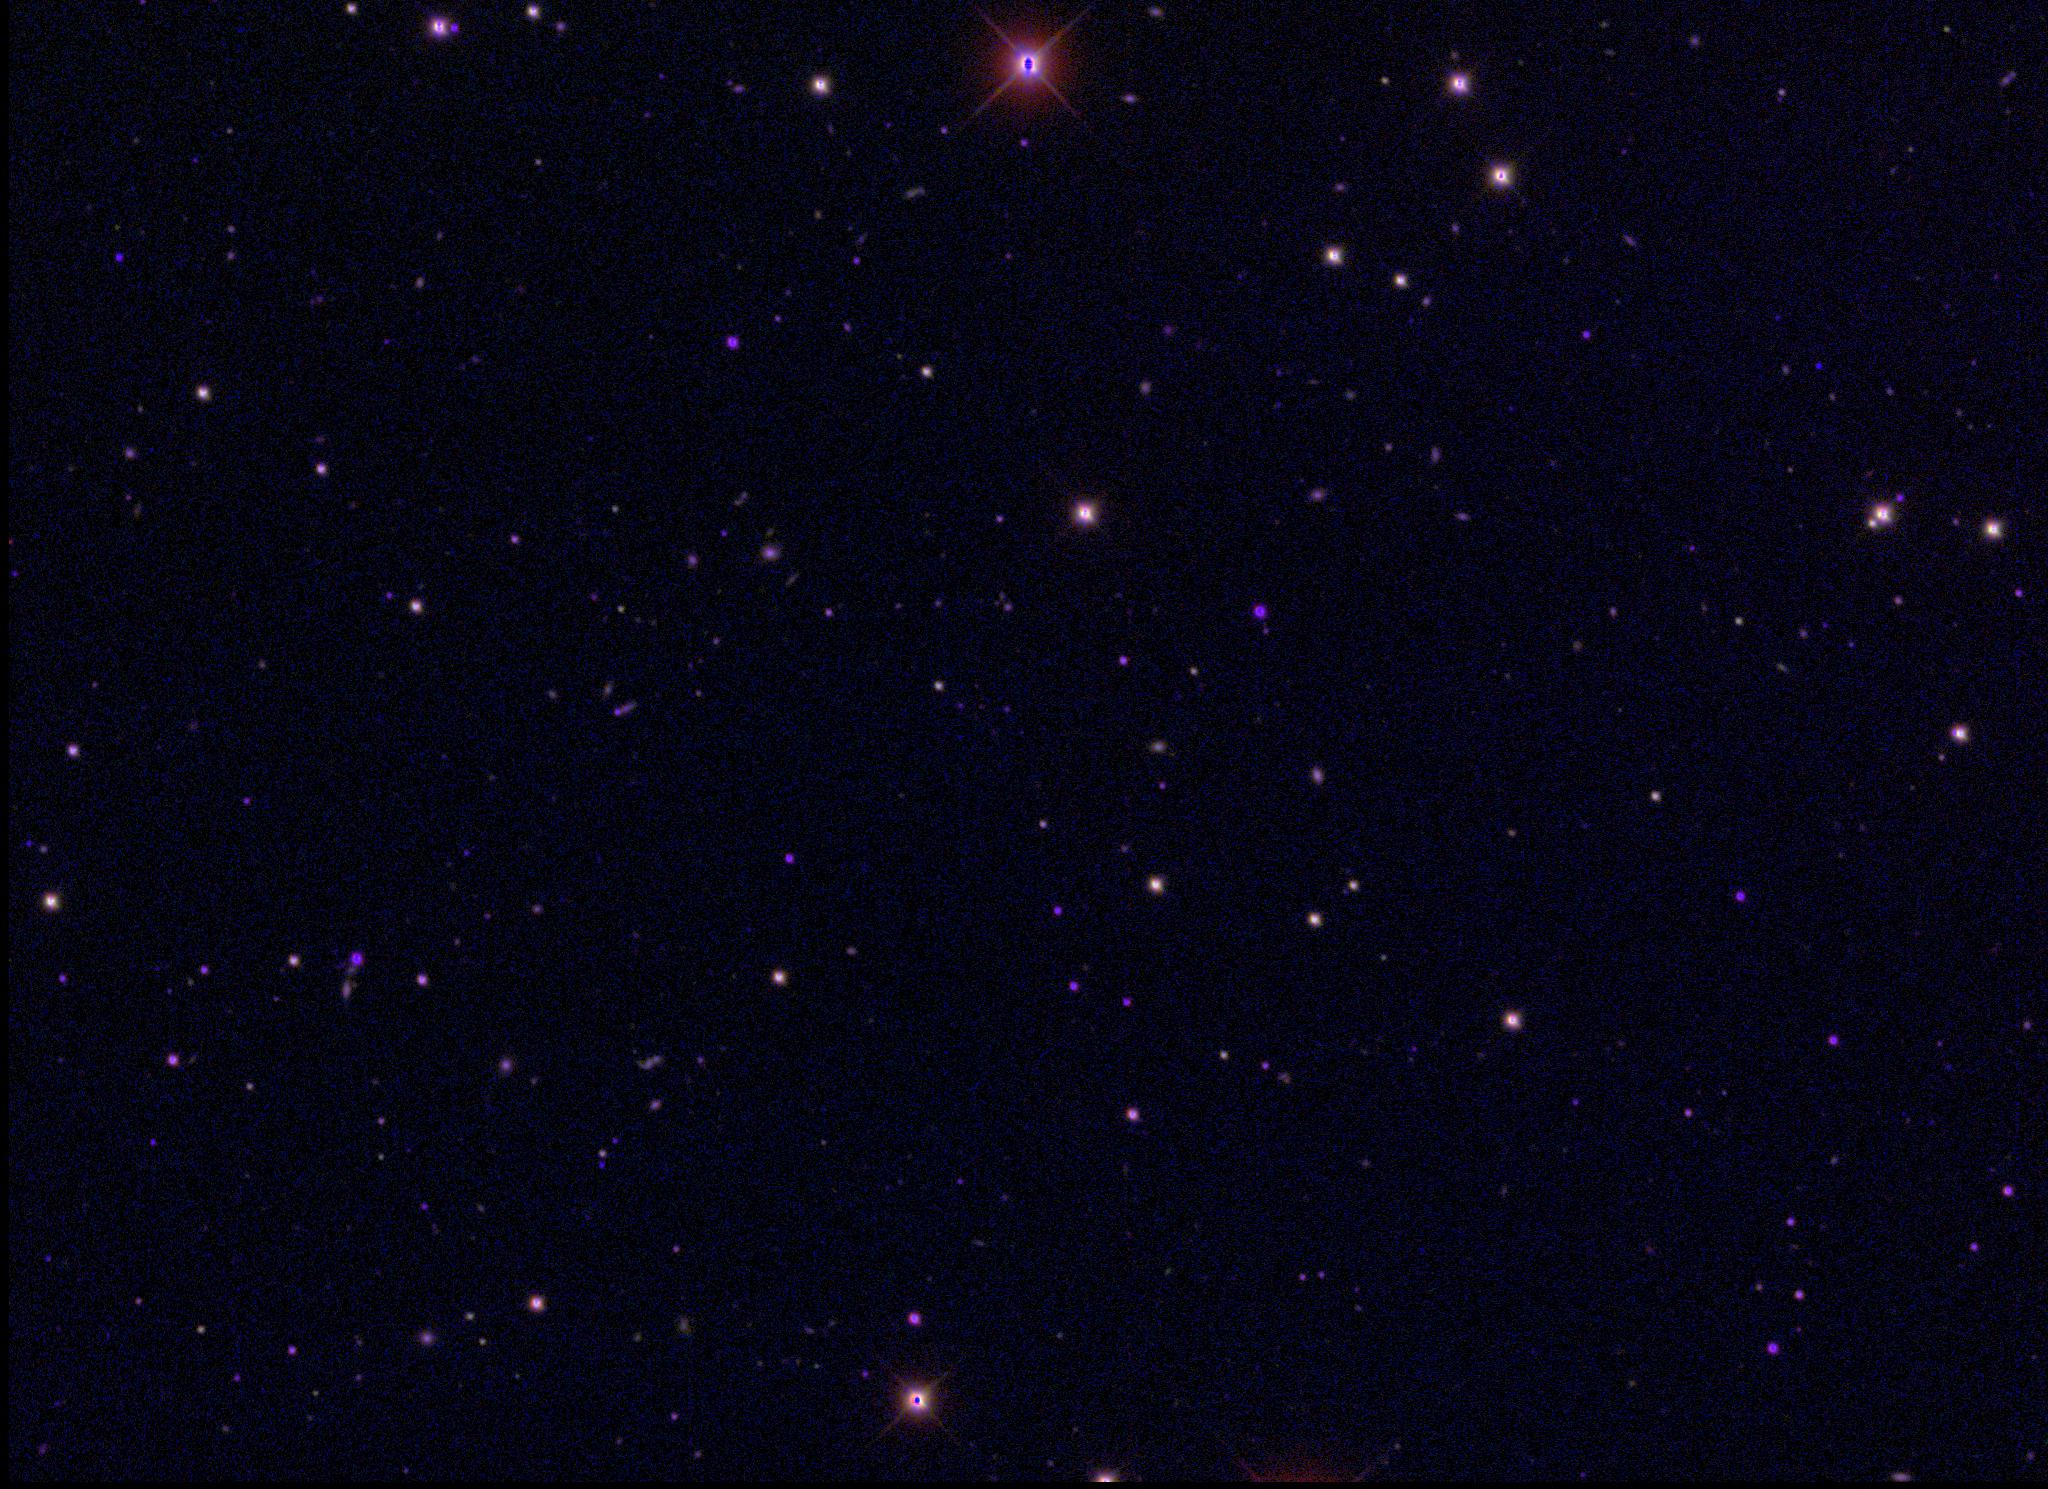L: (1811, 360, 1825, 372)
